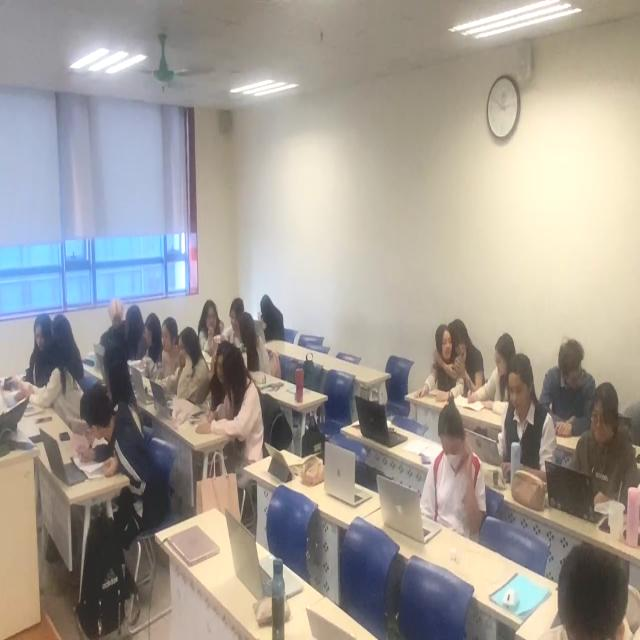raise_head: (85, 329, 154, 438), (173, 326, 211, 407), (152, 318, 182, 392)
read: (77, 372, 171, 628), (465, 333, 520, 410), (210, 300, 250, 358)
using_computer: (570, 384, 640, 513), (500, 352, 559, 487)
using_phone: (424, 394, 489, 538), (542, 546, 639, 640), (261, 296, 286, 344)
